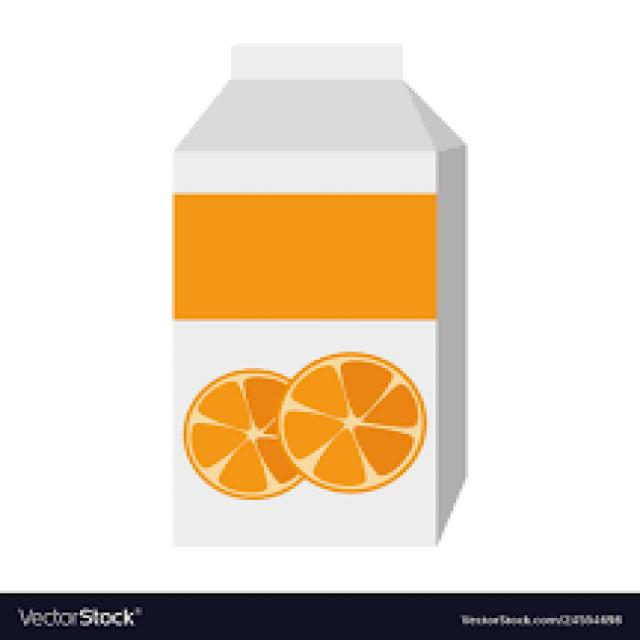non_white_jug: (158, 44, 478, 555)
